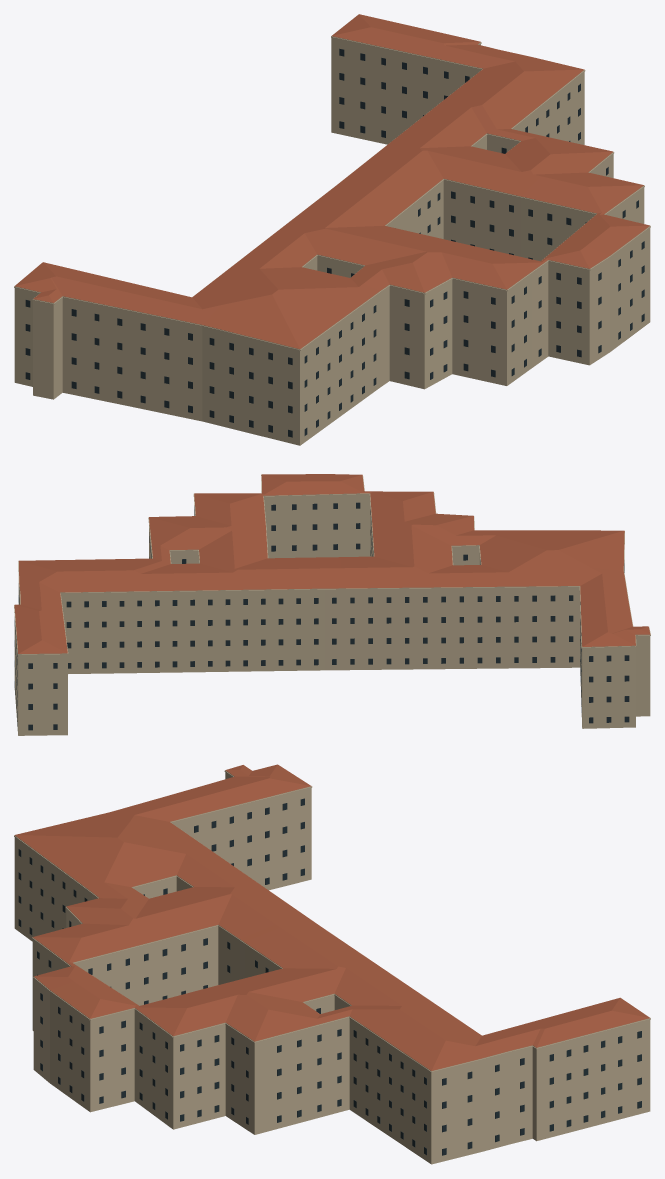
The model's file is pitti.glb.
3 renders of one model, top to bottom at view 1: azimuth 30°, elevation 25°; view 2: azimuth 150°, elevation 25°; view 3: azimuth 270°, elevation 25°, orthographic. The views are drawn at different scales.
Visible parts, largest first — view 1: primary-envelope, primary-roof, window-rhythm, cornice; view 2: primary-envelope, primary-roof, window-rhythm, cornice; view 3: primary-envelope, primary-roof, window-rhythm, cornice.
Part boxes in pixels (x1=…): primary-envelope: x1=14, y1=36, x2=650, y2=445; primary-roof: x1=15, y1=14, x2=649, y2=348; window-rhythm: x1=25, y1=48, x2=644, y2=437; cornice: x1=14, y1=14, x2=650, y2=350; primary-envelope: x1=14, y1=493, x2=650, y2=735; primary-roof: x1=14, y1=474, x2=650, y2=653; window-rhythm: x1=14, y1=502, x2=629, y2=730; cornice: x1=14, y1=474, x2=650, y2=655; primary-envelope: x1=14, y1=770, x2=650, y2=1164; primary-roof: x1=15, y1=764, x2=649, y2=1070; window-rhythm: x1=18, y1=798, x2=641, y2=1155; cornice: x1=14, y1=770, x2=650, y2=1072.
Size of the model in its own units: 16 by 2.5 by 14.03.
